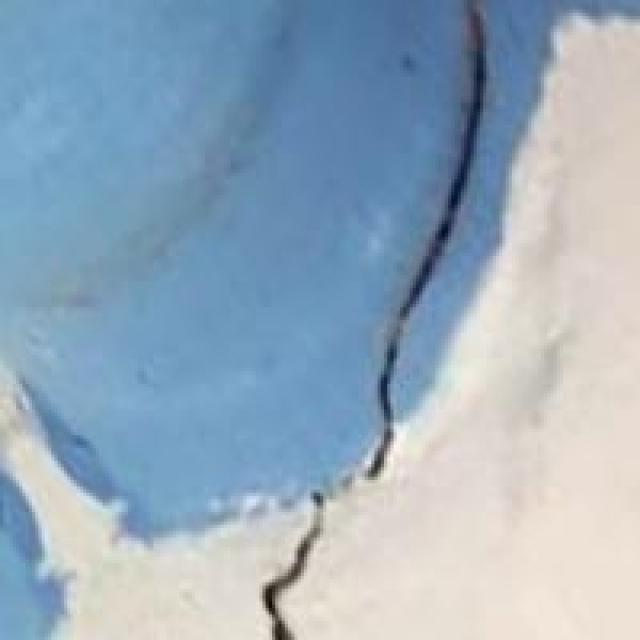Crack: (224, 3, 512, 637)
